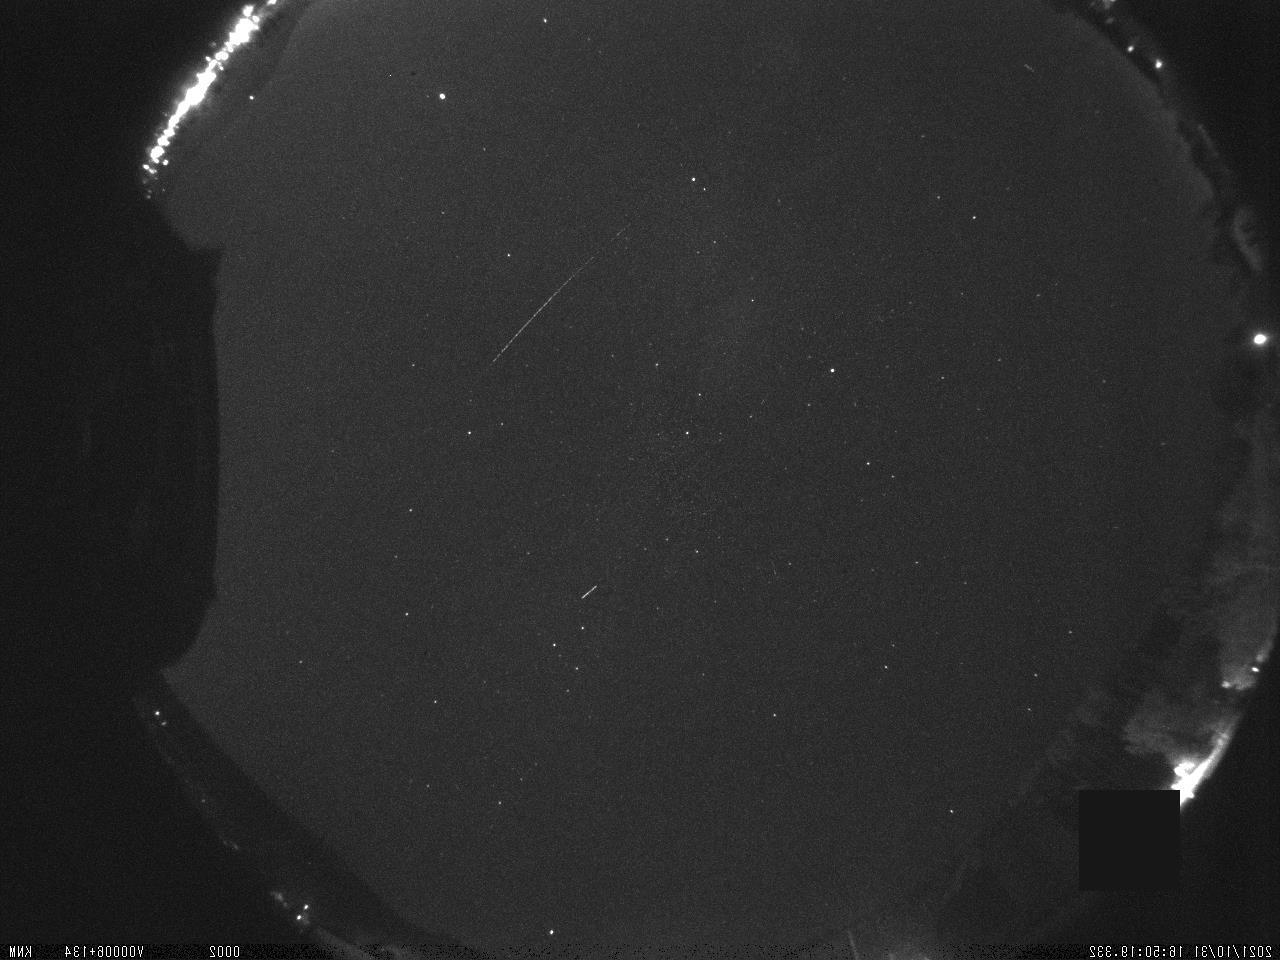meteor: (456, 234, 628, 387)
